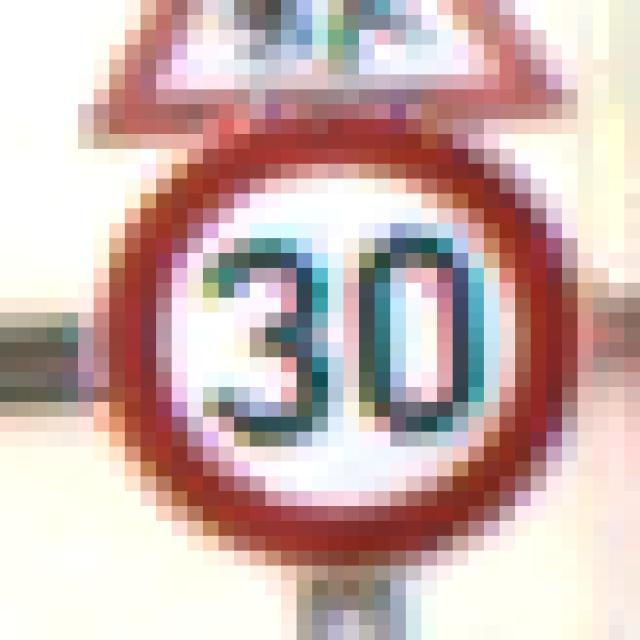Speed Limit -30-: (70, 81, 554, 558)
